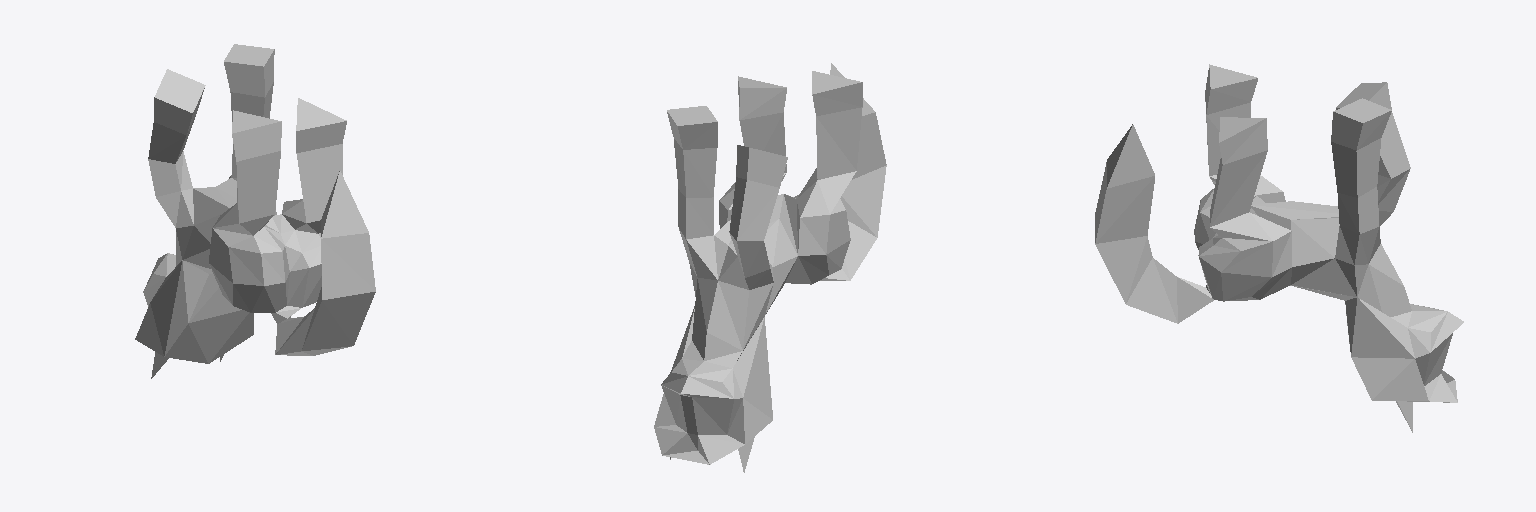
The model's file is PONY_000017.obj.
3 views of the same model, side by side, from view 1: azimuth 30°, elevation 25°; view 2: azimuth 150°, elevation 25°; view 3: azimuth 270°, elevation 25° (orthographic).
Visible parts, largest first — view 1: pony; view 2: pony; view 3: pony.
Boxes of the visible parts, box(x1,y1,x2,y2) form: pony: box(135, 44, 375, 378); pony: box(654, 63, 886, 472); pony: box(1095, 64, 1463, 432).
Size of the model in its own units: 3.53 by 9.01 by 9.28.